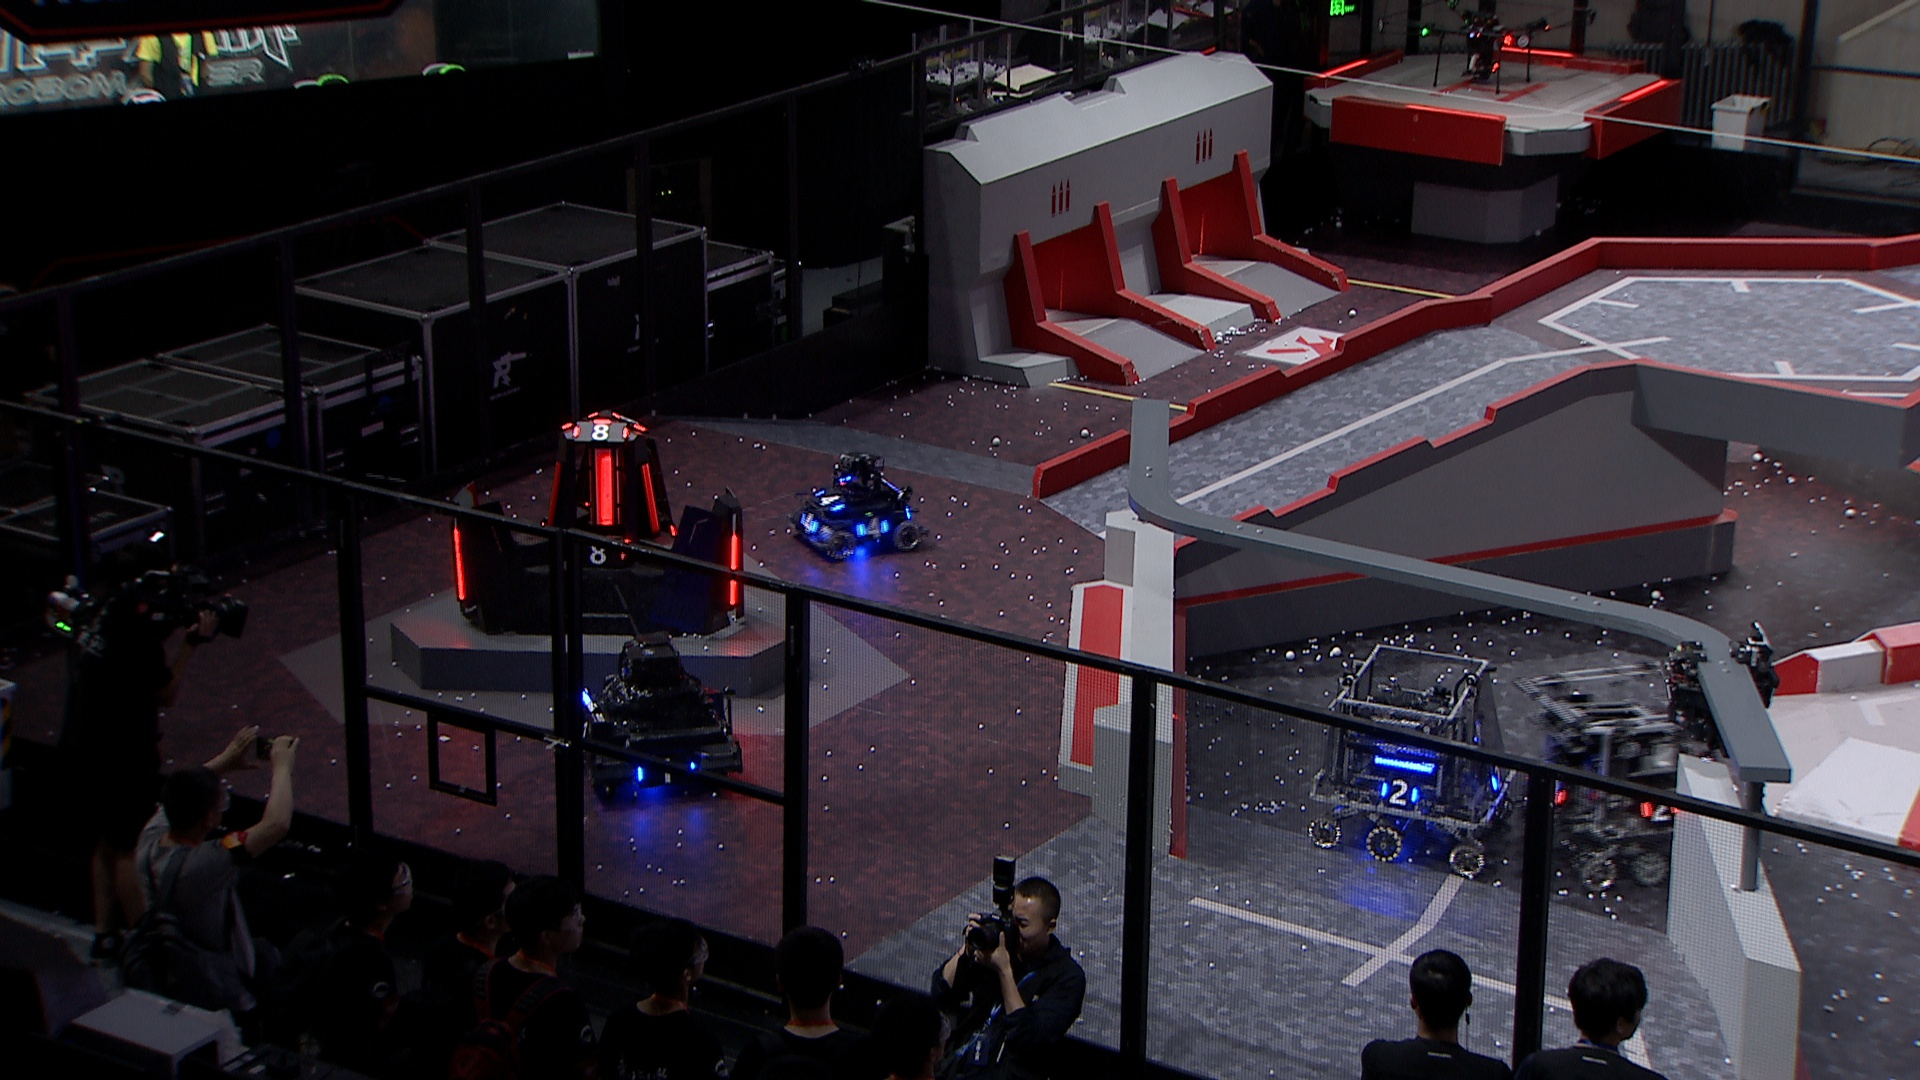armor: (589, 447, 622, 527), (632, 756, 698, 789), (638, 462, 665, 537), (570, 534, 632, 564), (541, 456, 567, 527), (723, 531, 745, 607), (1634, 793, 1684, 825), (568, 422, 632, 446), (1375, 775, 1418, 807), (451, 527, 468, 603), (852, 516, 891, 542), (814, 484, 847, 514), (575, 713, 603, 749), (793, 509, 825, 537), (1485, 764, 1513, 794)
base: (448, 406, 752, 637)
car: (1513, 654, 1750, 898), (1305, 642, 1524, 874), (575, 629, 746, 806), (782, 442, 928, 560)
watcher: (1659, 618, 1783, 756)
